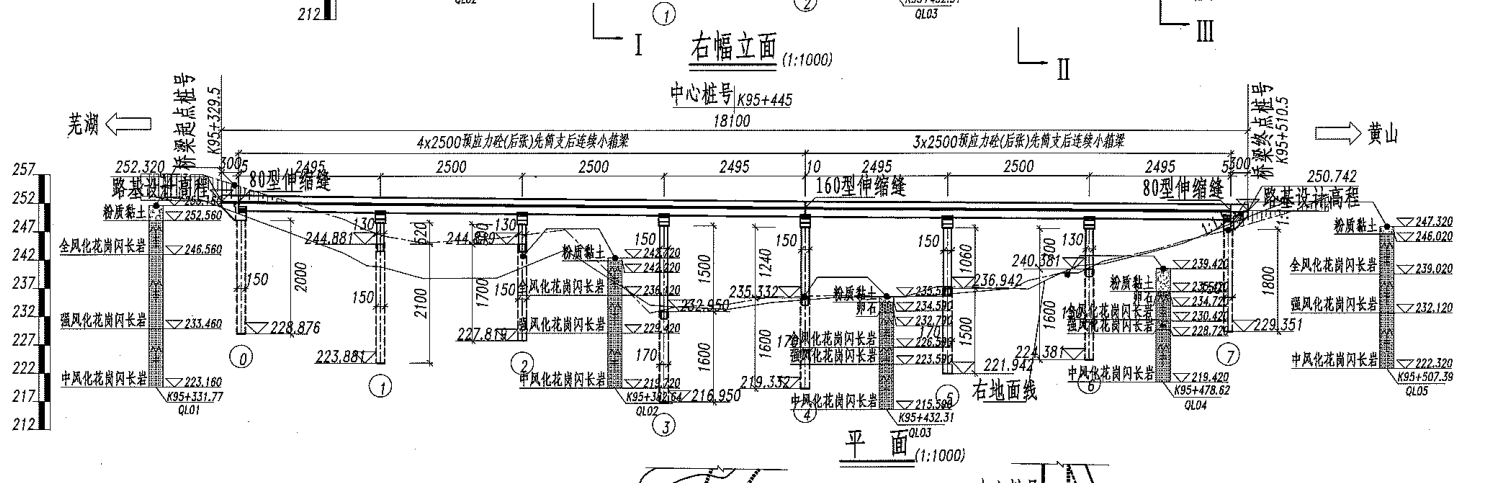C: (299, 204, 400, 404), (444, 206, 537, 380), (1041, 212, 1104, 401), (641, 209, 691, 443), (909, 212, 960, 411), (777, 211, 821, 428), (1188, 220, 1239, 371)
